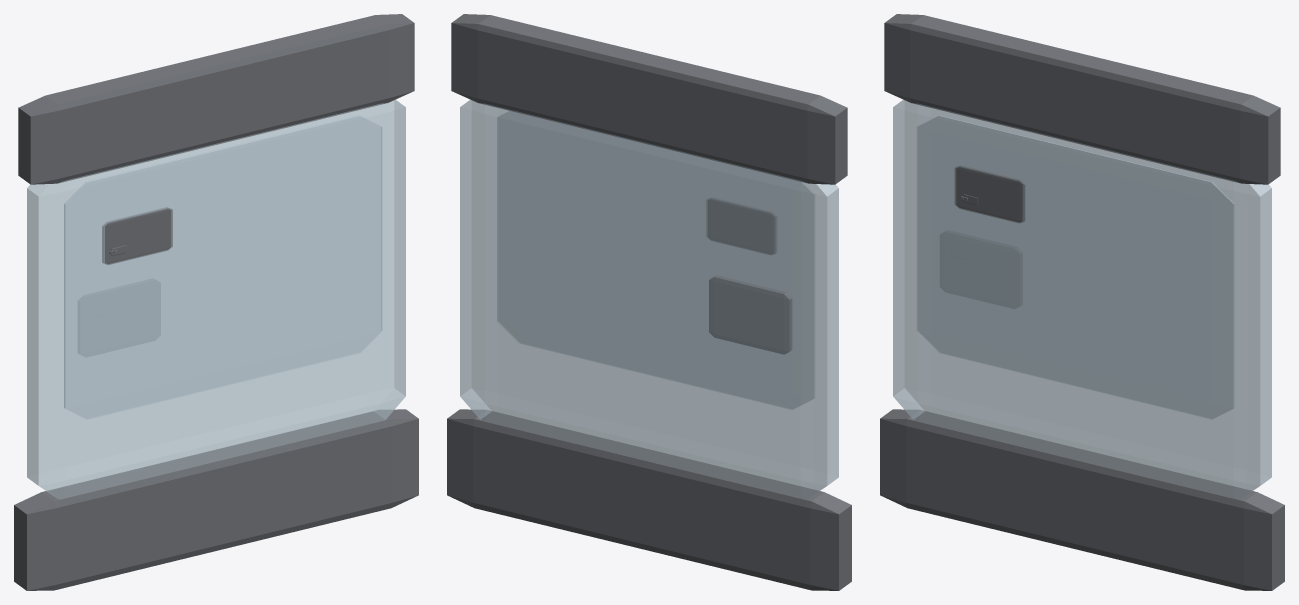
The model's file is b12_louvered_window_shutters.glb.
The picture shows the model from 3 angles, left to right: view 1: azimuth 30°, elevation 25°; view 2: azimuth 150°, elevation 25°; view 3: azimuth 330°, elevation 25°; orthographic projection.
Parts seen in each view (by area): view 1: b12_louvered_window_shutters; view 2: b12_louvered_window_shutters; view 3: b12_louvered_window_shutters.
Boxes of the visible parts, bbox=[...] form: b12_louvered_window_shutters: bbox=[14, 14, 418, 590]; b12_louvered_window_shutters: bbox=[447, 14, 851, 590]; b12_louvered_window_shutters: bbox=[880, 14, 1284, 590].
Size of the model in its own units: 1.34 by 1.58 by 0.091.
